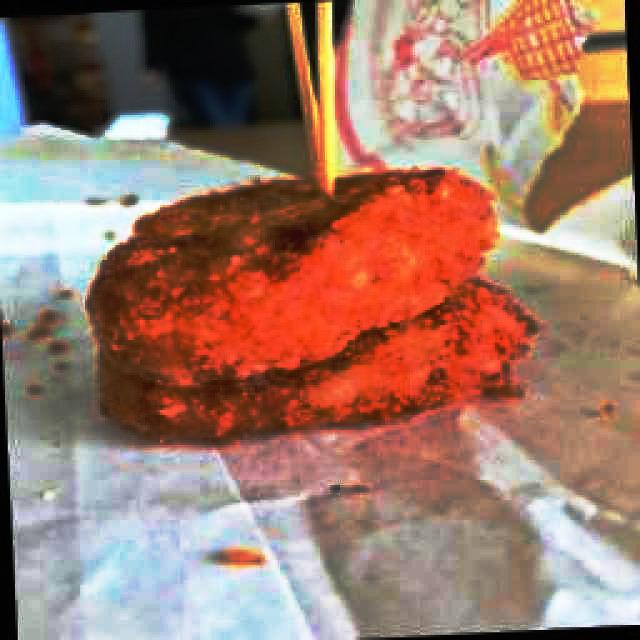Hashbrown: (91, 170, 494, 382), (98, 279, 534, 444)
